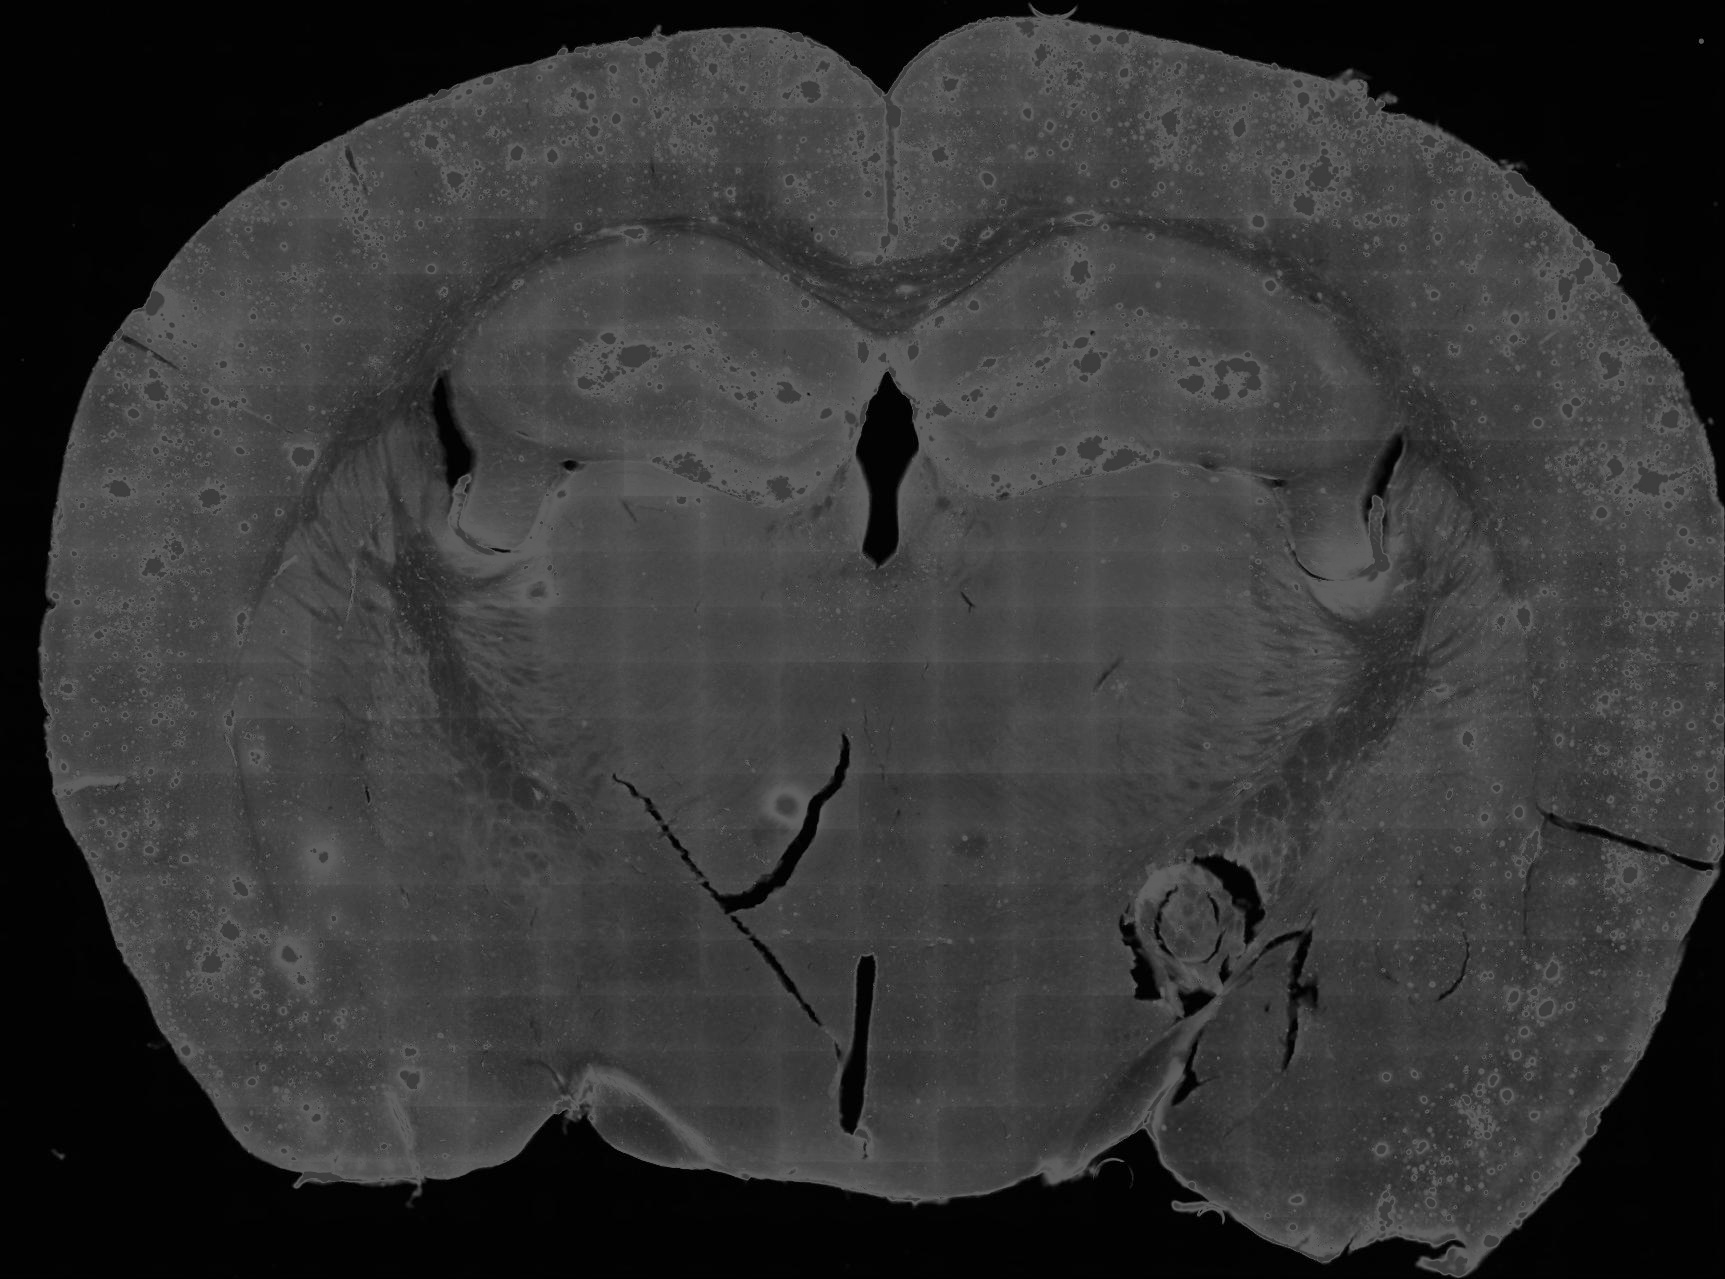Cerebral nuclei: (232, 414, 431, 983), (1360, 450, 1540, 931)
Hippocampal formation: (883, 228, 1377, 501), (458, 236, 885, 505)
Hypothalamus: (517, 801, 867, 1192), (852, 833, 1206, 1205)
Retrosplenial area: (885, 34, 982, 262), (789, 47, 885, 265)
Somatosensory area: (64, 46, 639, 523), (1214, 60, 1720, 582)
Thalamus: (867, 453, 1357, 856), (451, 455, 877, 845)
